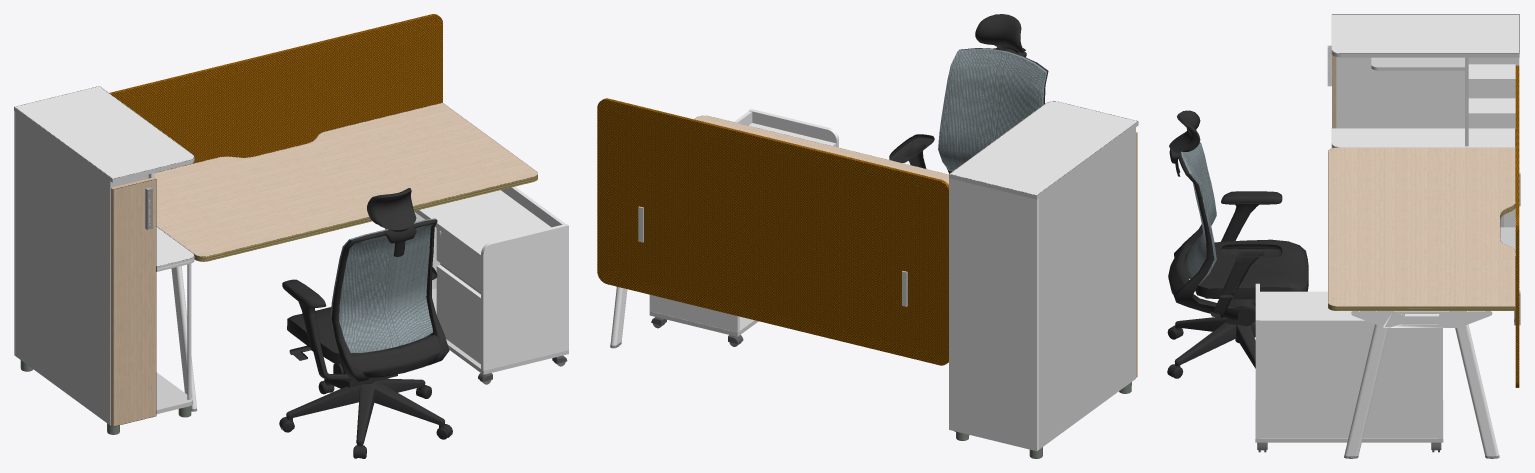
File: space layout A.gltf
3 renders of one model, left to right at view 1: azimuth 30°, elevation 25°; view 2: azimuth 150°, elevation 25°; view 3: azimuth 270°, elevation 25°, orthographic. The views are drawn at different scales.
Visible parts, largest first — view 1: object 42, SLIM1600 RED, TOH-50252N#1, 援ъ꽦 붿냼#10, 援ъ꽦 붿냼#226, 援ъ꽦 붿냼#6, 援ъ꽦 붿냼#4, 援ъ꽦 붿냼#655, 援ъ꽦 붿냼#216, 援ъ꽦 붿냼#215, 援ъ꽦 붿냼#641, 援ъ꽦 붿냼#12 (+4 smaller); view 2: SLIM1600 RED, 援ъ꽦 붿냼#10, 援ъ꽦 붿냼#5, TOH-50252N#1, 援ъ꽦 붿냼#4, object 42, 援ъ꽦 붿냼#223, 援ъ꽦 붿냼#226, 援ъ꽦 붿냼#639, 援ъ꽦 붿냼#653; view 3: object 42, 援ъ꽦 붿냼#654, TOH-50252N#1, 援ъ꽦 붿냼#9, 援ъ꽦 붿냼#4, 援ъ꽦 붿냼#12, 援ъ꽦 붿냼#655, 援ъ꽦 붿냼#639, 援ъ꽦 붿냼#638, SLIM1600 RED, 援ъ꽦 붿냼#11, 援ъ꽦 붿냼#653 (+5 smaller).
Boxes of the visible parts, x1,y1,x2,y2 form: object 42: [154, 102, 537, 261]; SLIM1600 RED: [109, 14, 442, 171]; TOH-50252N#1: [279, 188, 452, 458]; 援ъ꽦 붿냼#10: [16, 112, 113, 425]; 援ъ꽦 붿냼#226: [481, 224, 568, 370]; 援ъ꽦 붿냼#6: [111, 177, 156, 426]; 援ъ꽦 붿냼#4: [14, 86, 194, 182]; 援ъ꽦 붿냼#655: [414, 190, 551, 259]; 援ъ꽦 붿냼#216: [436, 265, 480, 363]; 援ъ꽦 붿냼#215: [436, 228, 480, 292]; 援ъ꽦 붿냼#641: [171, 266, 196, 408]; 援ъ꽦 붿냼#12: [156, 226, 194, 271]; SLIM1600 RED: [597, 98, 948, 365]; 援ъ꽦 붿냼#10: [1039, 127, 1135, 449]; 援ъ꽦 붿냼#5: [949, 178, 1038, 451]; TOH-50252N#1: [889, 14, 1048, 173]; 援ъ꽦 붿냼#4: [949, 101, 1138, 199]; object 42: [694, 115, 948, 184]; 援ъ꽦 붿냼#223: [649, 294, 739, 332]; 援ъ꽦 붿냼#226: [748, 109, 838, 147]; 援ъ꽦 붿냼#639: [610, 286, 627, 345]; 援ъ꽦 붿냼#653: [649, 311, 758, 336]; object 42: [1328, 147, 1515, 327]; 援ъ꽦 붿냼#654: [1260, 319, 1438, 438]; TOH-50252N#1: [1167, 110, 1308, 378]; 援ъ꽦 붿냼#9: [1336, 57, 1515, 227]; 援ъ꽦 붿냼#4: [1331, 14, 1519, 57]; 援ъ꽦 붿냼#12: [1331, 128, 1515, 147]; 援ъ꽦 붿냼#655: [1260, 291, 1438, 318]; 援ъ꽦 붿냼#639: [1455, 324, 1498, 456]; 援ъ꽦 붿냼#638: [1344, 324, 1388, 456]; SLIM1600 RED: [1514, 65, 1520, 387]; 援ъ꽦 붿냼#11: [1371, 57, 1464, 70]; 援ъ꽦 붿냼#653: [1255, 399, 1443, 442].
Bounding box in the file's own units: 2 × 1.16 × 1.51.
24 materials, 10 textured.
